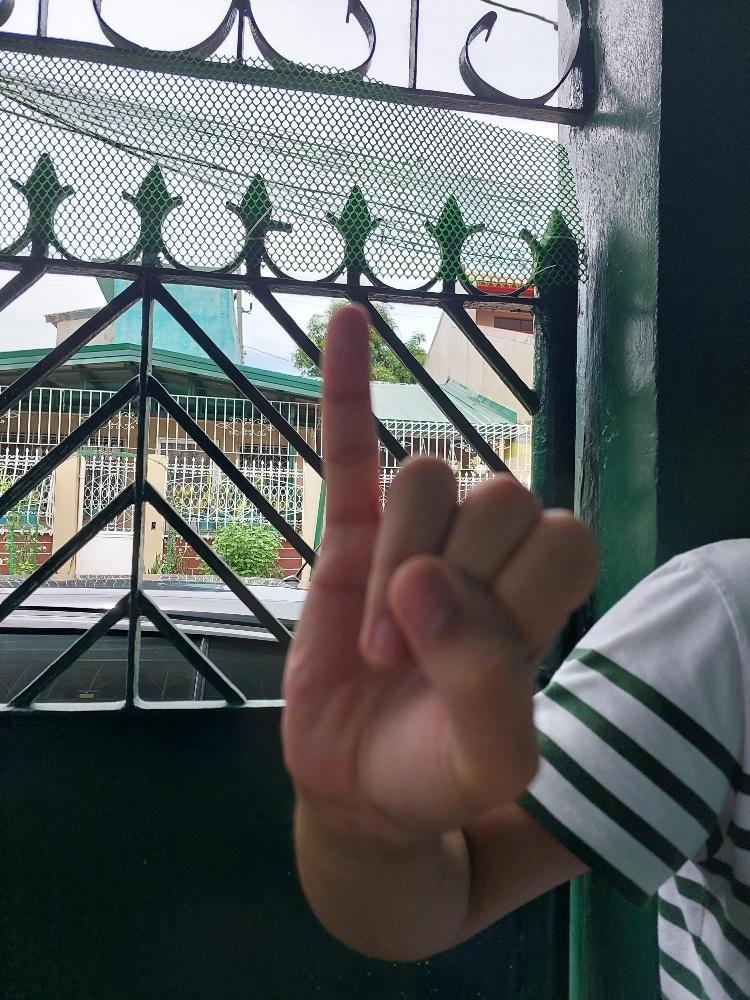i: (279, 300, 602, 840)
